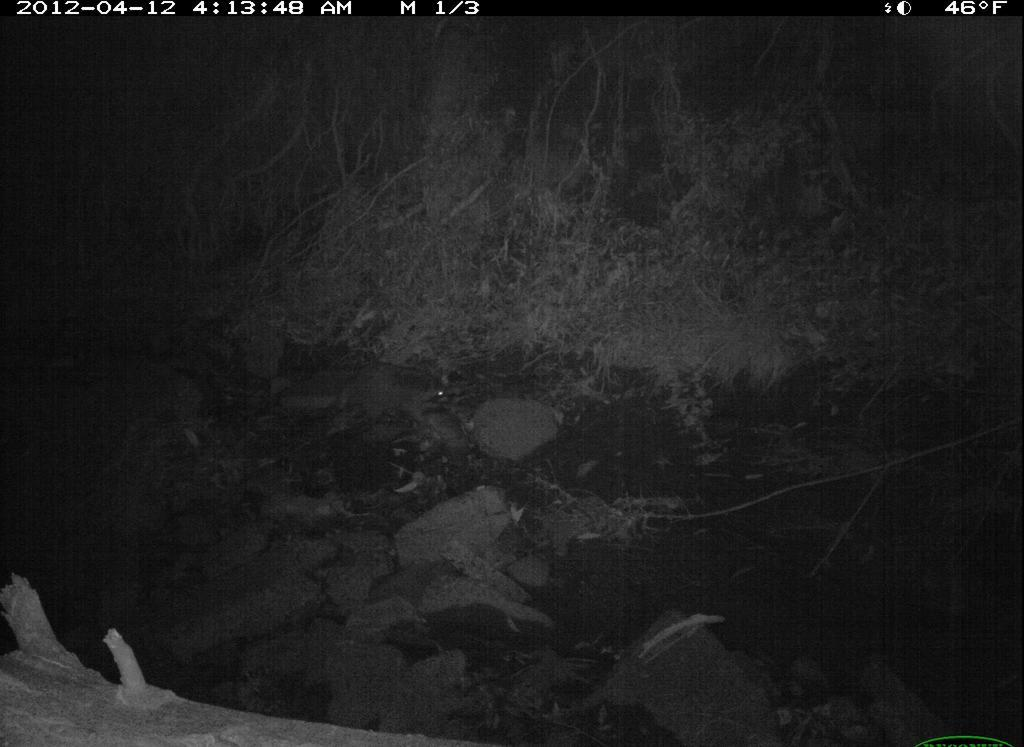raccoon: (328, 350, 472, 437)
